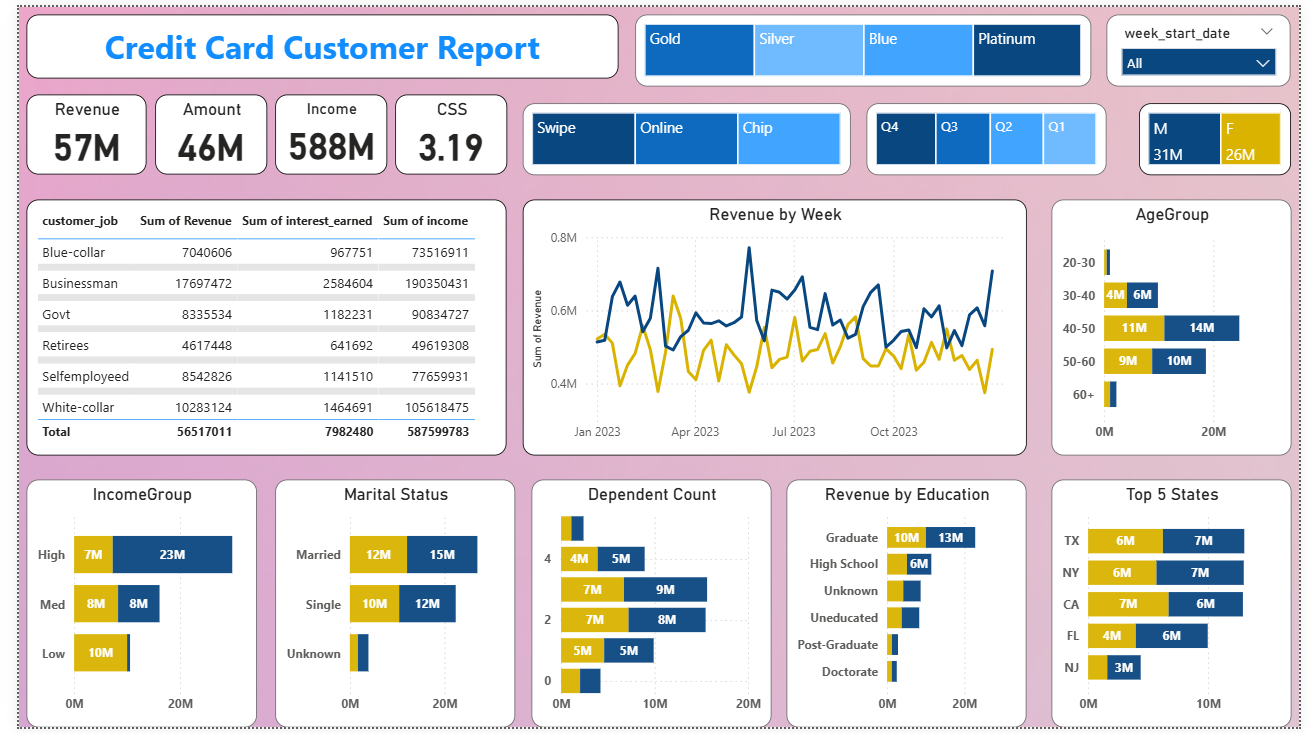

The page's visual inventory and layout, read from the dashboard file:
{"tool":"powerbi","page":{"name":"CC Customer","canvas":[1280,720],"ordinal":2},"visuals":[{"type":"textbox","box":[8,8,592,64],"z":0},{"type":"barChart","title":"IncomeGroup","fields":{"Y":["Sum(public cc_detail.Revenue)"],"Category":["public cust_detail.IncomeGroup"],"Series":["public cust_detail.gender"]},"box":[8,472,230,248],"z":1000},{"type":"slicer","fields":{"Values":["public cc_detail.week_start_date"]},"box":[1088,8,184,72],"z":2000},{"type":"treemap","fields":{"Group":["public cc_detail.qtr"],"Values":["Avg(public cc_detail.client_num)"]},"box":[848,96,240,72],"z":3000},{"type":"treemap","fields":{"Values":["Avg(public cc_detail.client_num)"],"Group":["public cc_detail.card_category"]},"box":[616,8,456,72],"z":4000},{"type":"tableEx","fields":{"Values":["public cust_detail.customer_job","Sum(public cc_detail.Revenue)","Sum(public cc_detail.interest_earned)","Sum(public cust_detail.income)"]},"box":[8,192,480,256],"z":5000},{"type":"card","title":"Revenue","fields":{"Values":["Sum(public cc_detail.Revenue)"]},"box":[8,88,120,80],"z":6000},{"type":"card","title":"Amount","fields":{"Values":["Sum(public cc_detail.total_trans_amt)"]},"box":[136,88,112,80],"z":7000},{"type":"card","title":"CSS","fields":{"Values":["Avg(public cust_detail.cust_satisfaction_score)"]},"box":[376,88,112,80],"z":8000},{"type":"card","title":"Income","fields":{"Values":["Sum(public cust_detail.income)"]},"box":[256,88,112,80],"z":9000},{"type":"lineChart","title":"Revenue by Week","fields":{"Y":["Sum(public cc_detail.Revenue)"],"Series":["public cust_detail.gender"],"Category":["public cc_detail.week_start_date.Variation.Date Hierarchy.Year","public cc_detail.week_start_date.Variation.Date Hierarchy.Month","public cc_detail.week_start_date.Variation.Date Hierarchy.Day"]},"box":[504,192,504,256],"z":10000},{"type":"treemap","fields":{"Group":["public cust_detail.gender"],"Values":["Sum(public cc_detail.Revenue)"]},"box":[1120,96,152,72],"z":11000},{"type":"barChart","title":"AgeGroup","fields":{"Y":["Sum(public cc_detail.Revenue)"],"Category":["public cust_detail.AgeGroup"],"Series":["public cust_detail.gender"]},"box":[1032,192,240,256],"z":12000},{"type":"barChart","title":"Dependent Count","fields":{"Y":["Sum(public cc_detail.Revenue)"],"Category":["public cust_detail.dependent_count"],"Series":["public cust_detail.gender"]},"box":[512,472,240,248],"z":13000},{"type":"barChart","title":"Revenue by Education","fields":{"Y":["Sum(public cc_detail.Revenue)"],"Category":["public cust_detail.education_level"],"Series":["public cust_detail.gender"]},"box":[768,472,240,248],"z":14000},{"type":"barChart","title":"Top 5 States","fields":{"Y":["Sum(public cc_detail.Revenue)"],"Category":["public cust_detail.state_cd"],"Series":["public cust_detail.gender"]},"box":[1032,472,240,248],"z":15000},{"type":"barChart","title":"Marital Status","fields":{"Y":["Sum(public cc_detail.Revenue)"],"Category":["public cust_detail.marital_status"],"Series":["public cust_detail.gender"]},"box":[256,472,240,248],"z":16000},{"type":"treemap","fields":{"Values":["Avg(public cc_detail.client_num)"],"Group":["public cc_detail.use_chip"]},"box":[504,96,328,72],"z":17000}]}

Visuals, with their boxes in screenshot pixels (x1, y1, x2, y2), scaled from the page's 1280x720 canvas onto the 1313x733 screenshot:
textbox: left=8, top=8, right=615, bottom=73
"IncomeGroup" barChart: left=8, top=481, right=244, bottom=732
slicer - public cc_detail.week_start_date: left=1116, top=8, right=1305, bottom=81
treemap - public cc_detail.qtr x Avg(public cc_detail.client_num): left=870, top=98, right=1116, bottom=171
treemap - Avg(public cc_detail.client_num) x public cc_detail.card_category: left=632, top=8, right=1100, bottom=81
tableEx - public cust_detail.customer_job x Sum(public cc_detail.Revenue): left=8, top=195, right=501, bottom=456
"Revenue" card: left=8, top=90, right=131, bottom=171
"Amount" card: left=140, top=90, right=254, bottom=171
"CSS" card: left=386, top=90, right=501, bottom=171
"Income" card: left=263, top=90, right=377, bottom=171
"Revenue by Week" lineChart: left=517, top=195, right=1034, bottom=456
treemap - public cust_detail.gender x Sum(public cc_detail.Revenue): left=1149, top=98, right=1305, bottom=171
"AgeGroup" barChart: left=1059, top=195, right=1305, bottom=456
"Dependent Count" barChart: left=525, top=481, right=771, bottom=732
"Revenue by Education" barChart: left=788, top=481, right=1034, bottom=732
"Top 5 States" barChart: left=1059, top=481, right=1305, bottom=732
"Marital Status" barChart: left=263, top=481, right=509, bottom=732
treemap - Avg(public cc_detail.client_num) x public cc_detail.use_chip: left=517, top=98, right=853, bottom=171
